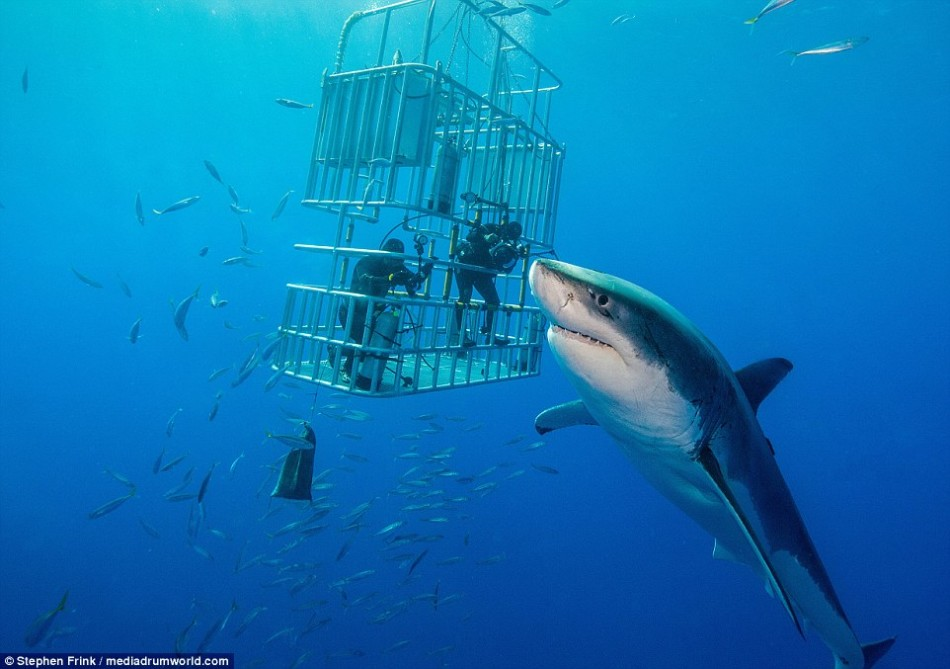shark: (514, 247, 897, 662)
